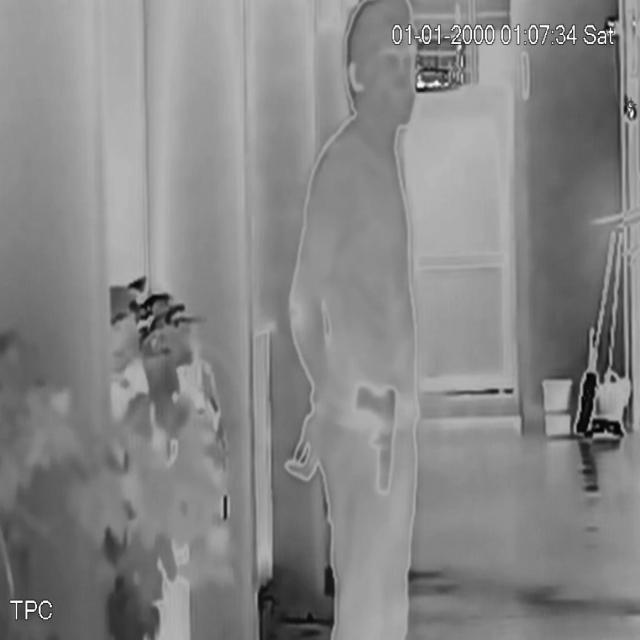Weapon: (346, 381, 418, 501)
